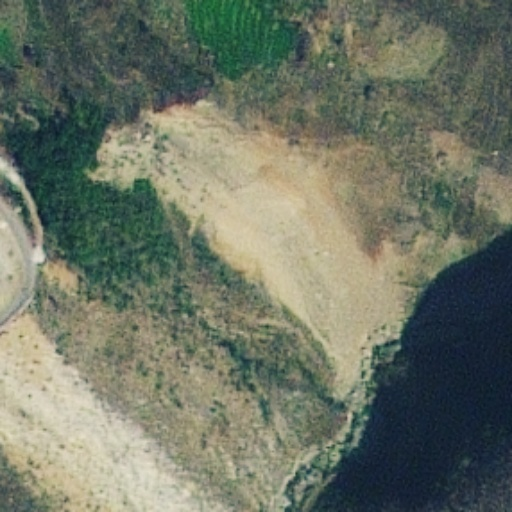landslide: (89, 94, 422, 403)
